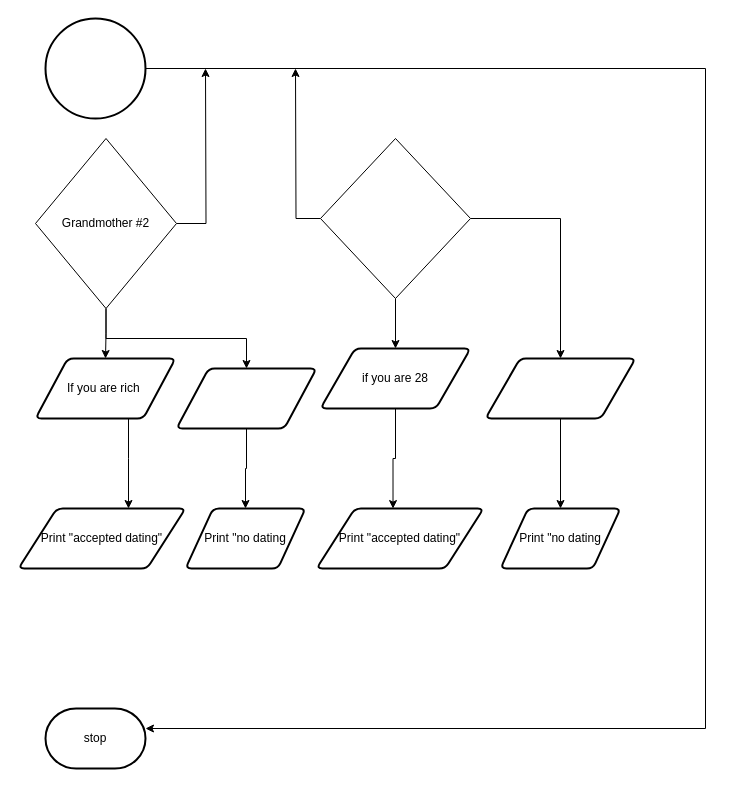
Some shapes in this 731 by 786 pixel diagram are drawn without their labels. The centre of each missing label's shape, as x and y in pixels:
"Grand mother #1" goes at [395,218].
"if you are 49" goes at [560,388].
"if you are not rich" goes at [246,398].
"start" goes at [95,68].
